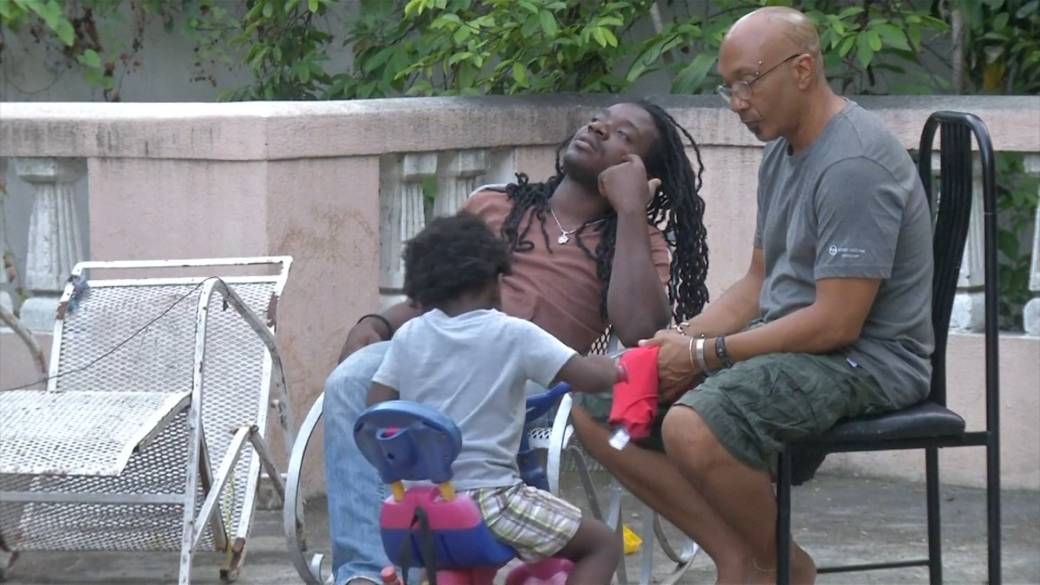Person: (561, 7, 938, 585), (328, 36, 708, 571), (350, 208, 654, 585)
